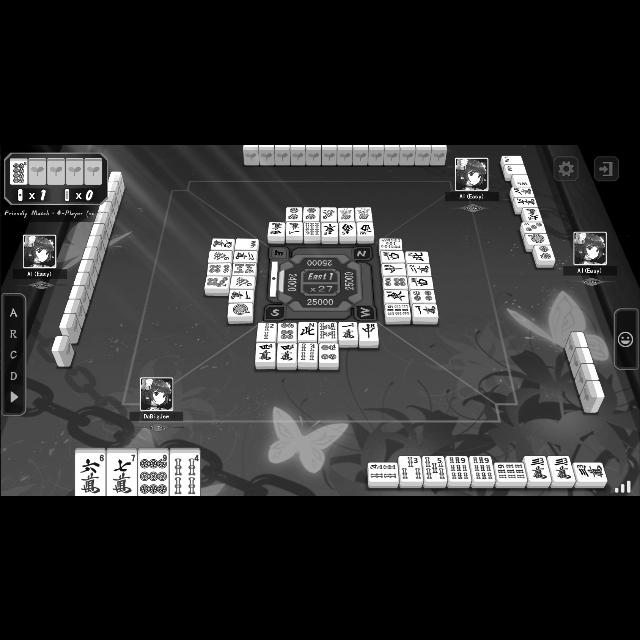1m: (414, 303, 438, 317), (339, 322, 357, 340), (229, 289, 253, 301), (288, 222, 302, 235)
1p: (228, 304, 254, 316), (527, 232, 549, 244)
1s: (356, 207, 372, 220), (338, 208, 354, 220)
2m: (407, 263, 431, 275), (236, 251, 254, 261)
2p: (536, 245, 554, 259), (286, 206, 302, 220), (304, 207, 318, 219)
2s: (258, 322, 276, 341)
3m: (550, 456, 572, 482), (527, 456, 549, 479), (576, 462, 604, 480)
3p: (523, 222, 545, 232)
3s: (399, 456, 421, 480)
4m: (278, 342, 296, 362), (256, 343, 274, 361), (270, 222, 284, 236)
4p: (320, 342, 338, 362), (410, 289, 436, 301)
4s: (171, 454, 199, 494), (369, 462, 397, 481), (299, 342, 317, 363)
5s: (424, 456, 446, 482), (380, 238, 402, 248)
6m: (76, 452, 104, 496), (526, 208, 540, 220)
6p: (278, 322, 296, 340), (384, 276, 406, 288), (208, 262, 230, 274)
6s: (306, 223, 320, 235)
7m: (109, 452, 138, 496), (515, 197, 537, 206)
7p: (206, 276, 228, 286)
8m: (512, 187, 534, 196)
8p: (10, 160, 28, 183)
8s: (319, 322, 336, 341), (234, 260, 256, 274)
9m: (212, 238, 234, 248)
9p: (138, 454, 168, 494)
9s: (472, 456, 493, 479), (448, 456, 468, 480), (496, 462, 526, 478), (385, 304, 411, 316)
chun: (360, 322, 378, 340), (382, 262, 406, 274)
haku: (506, 163, 526, 173), (503, 154, 523, 164), (237, 238, 257, 248), (514, 173, 530, 185)
hatsu: (210, 250, 230, 262), (233, 276, 253, 288), (322, 207, 336, 219)
nan: (340, 223, 356, 235)
pe: (298, 321, 316, 339), (406, 250, 428, 262)
sha: (409, 276, 433, 288), (381, 250, 405, 262), (358, 222, 372, 236)
tou: (384, 290, 408, 302), (322, 221, 338, 235)
